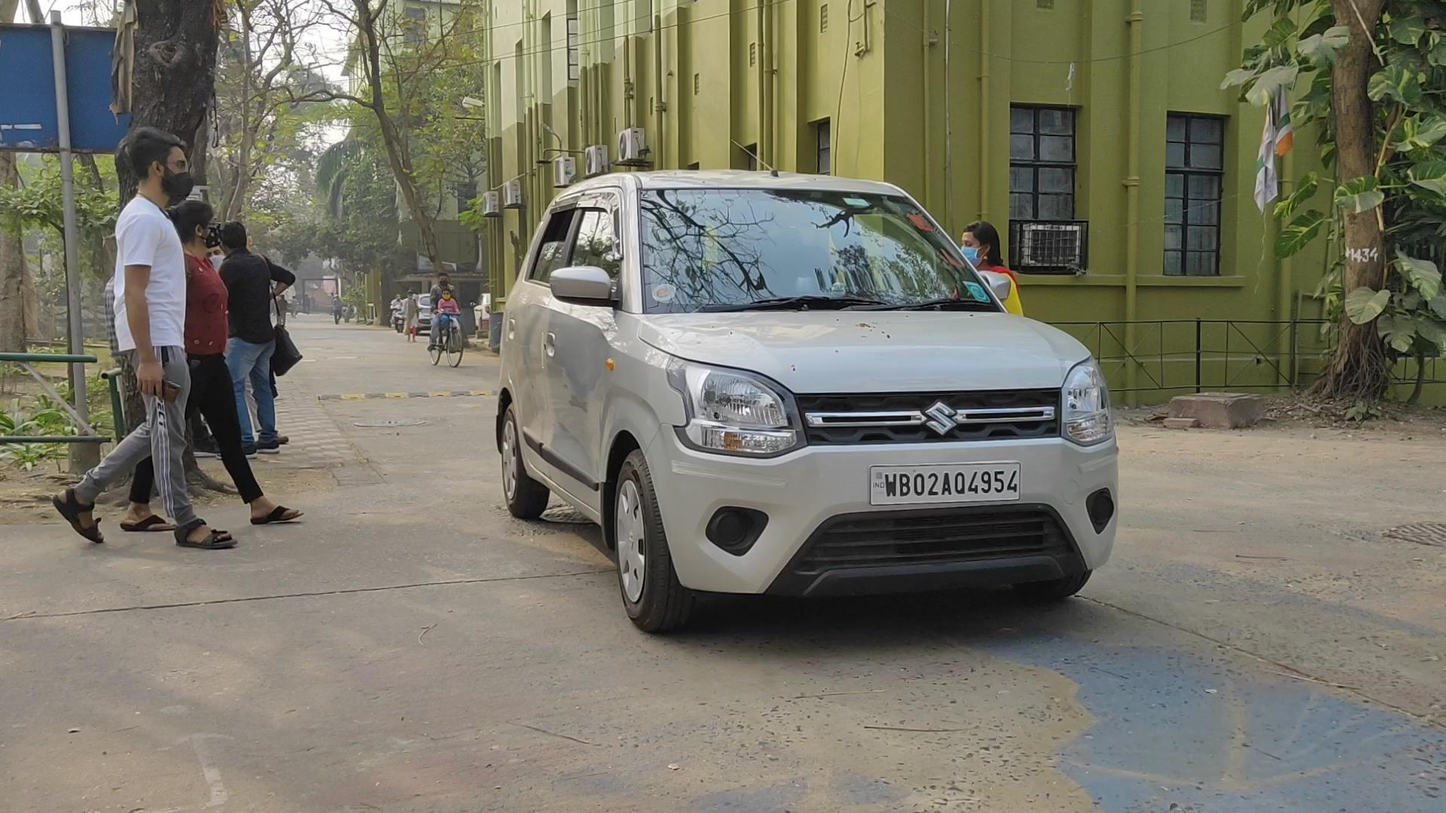bike: (427, 272, 465, 368), (389, 294, 406, 333)
car: (490, 172, 1125, 641)
